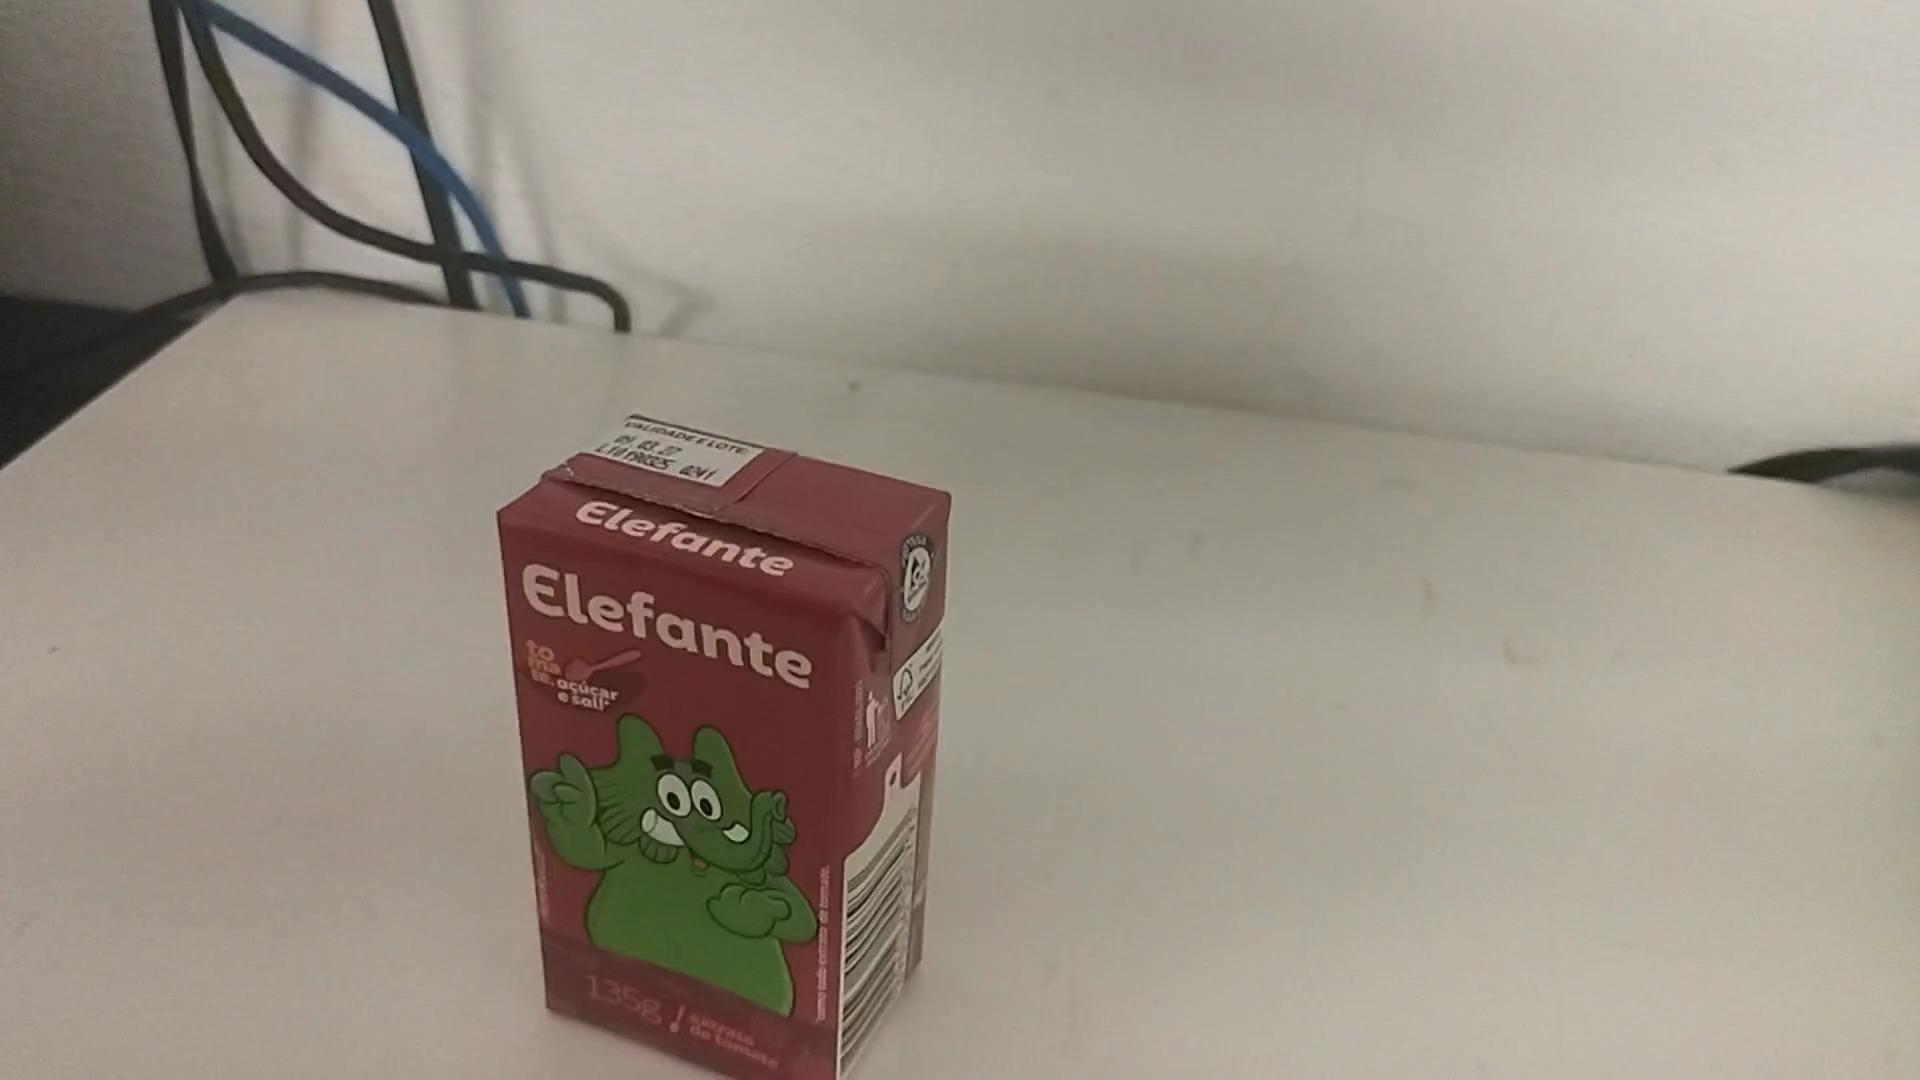tomate: (496, 414, 953, 1075)
